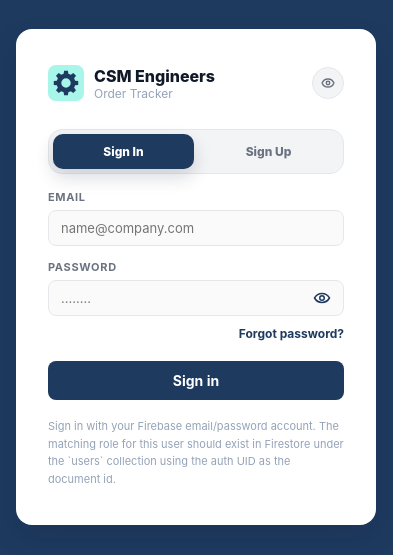
Test: LoginScreen auth flow › validates email before sending a password reset
Click the button "Forgot password?": (291, 334) [239,326,344,341]
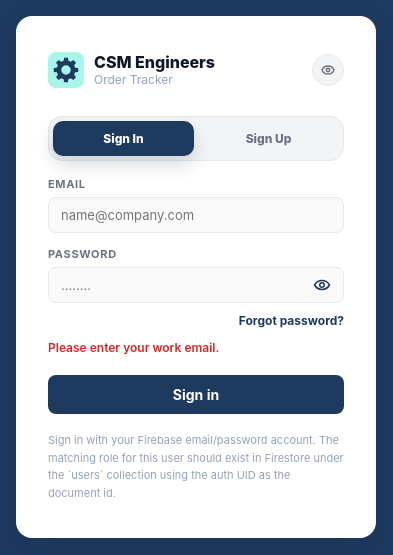
Expected: the text "Please enter your work email." is shown, [48,340,219,355]
